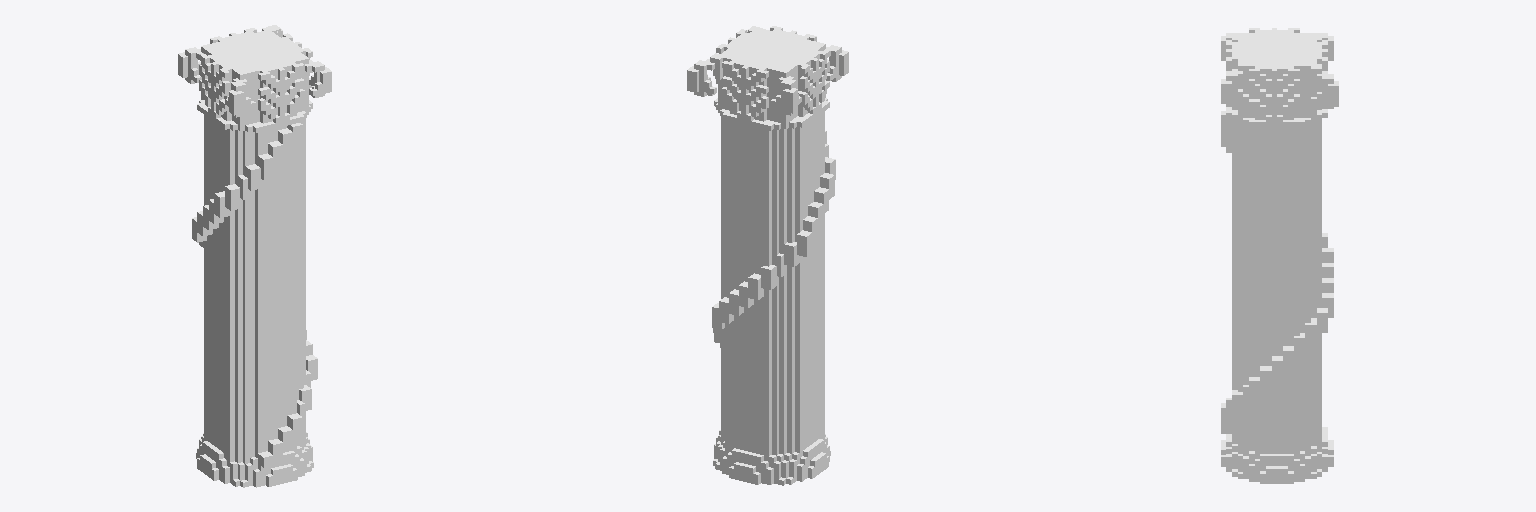
The model's file is pillar_normal.obj.
The picture shows the model from 3 angles: view 1: azimuth 30°, elevation 25°; view 2: azimuth 150°, elevation 25°; view 3: azimuth 270°, elevation 25°; orthographic projection.
Visible parts, largest first — view 1: object 1; view 2: object 1; view 3: object 1.
Part boxes in pixels (x1,y1,x2,y2): object 1: (178, 25, 331, 487); object 1: (687, 26, 848, 485); object 1: (1221, 28, 1338, 483).
Size of the model in its own units: 2.1 by 8 by 2.1.